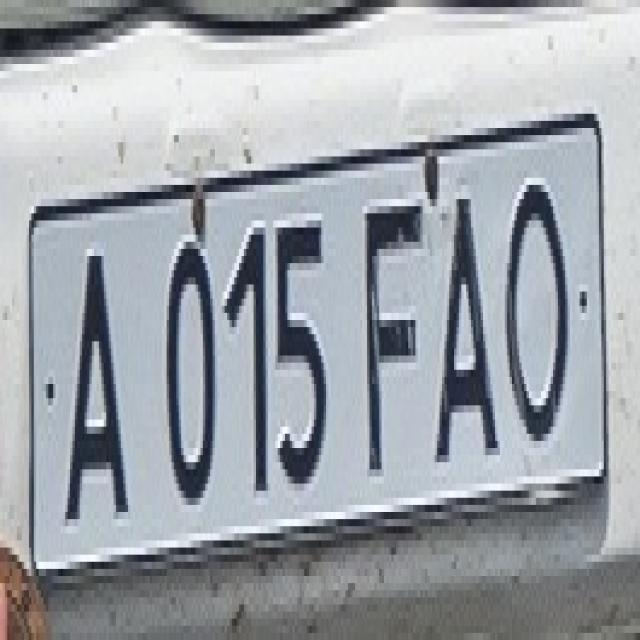0: (494, 156, 572, 441), (157, 220, 213, 498)
1: (218, 206, 276, 491)
5: (268, 192, 333, 484)
A: (51, 228, 133, 520), (425, 171, 500, 462)
F: (350, 178, 430, 470)
